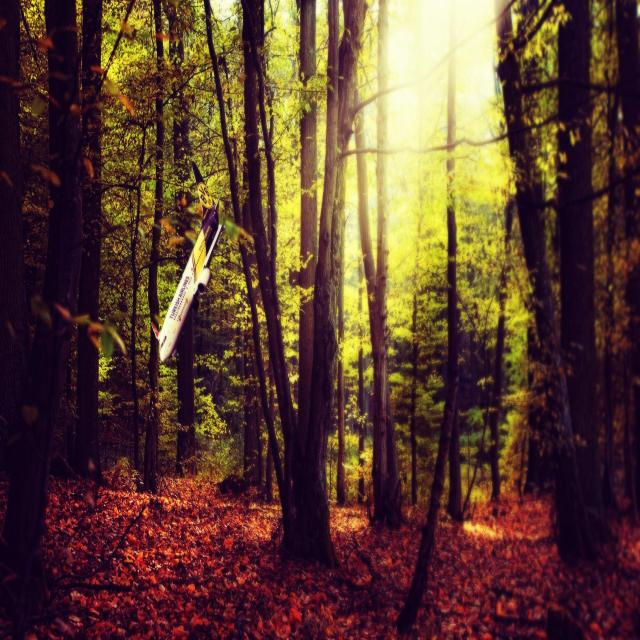airplane: (153, 159, 222, 367)
